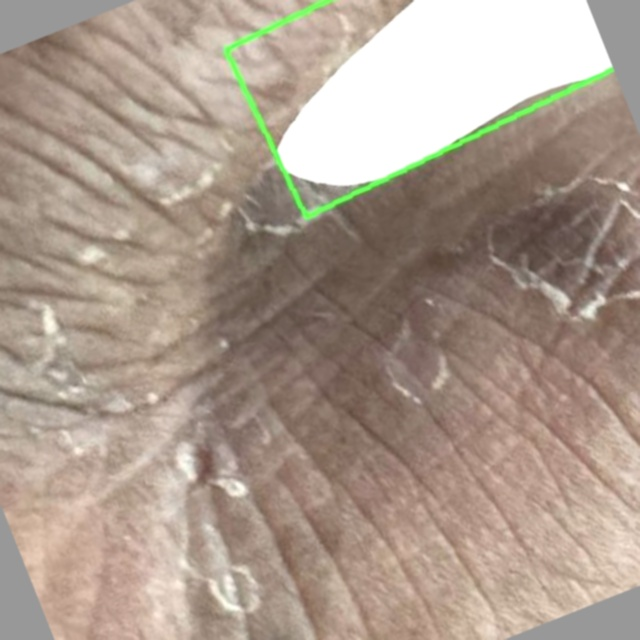Scabies: (225, 0, 612, 216)
